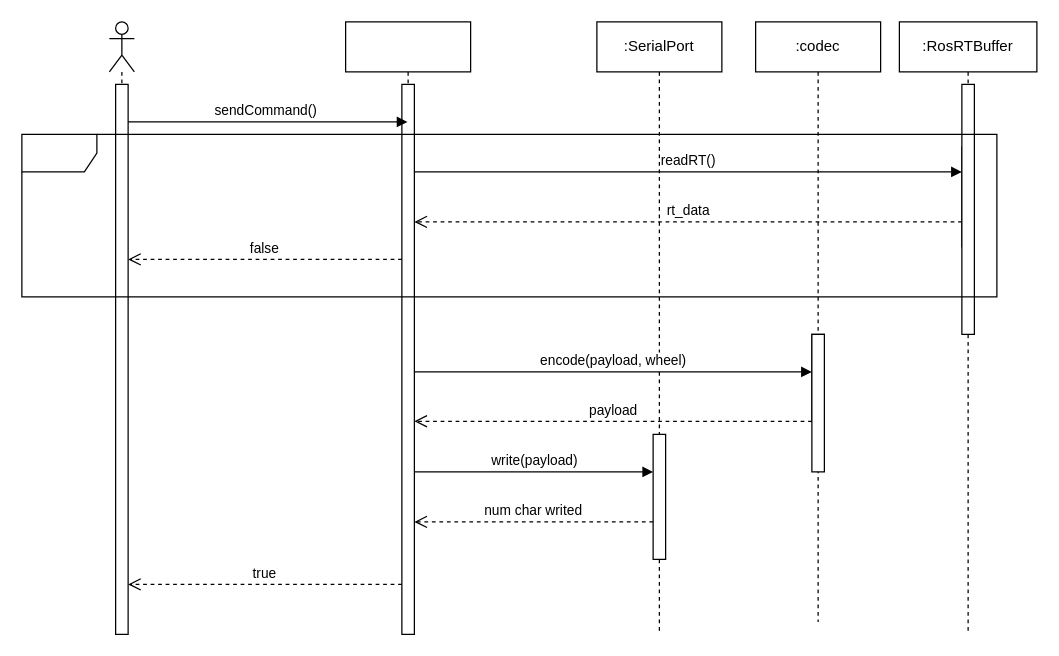
This 1059x656 diagram has some shape labels left out. Each missing label, with the box of its shape:
:LittlebotDriver: (344, 21, 471, 634)
frame: (21, 133, 997, 297)
